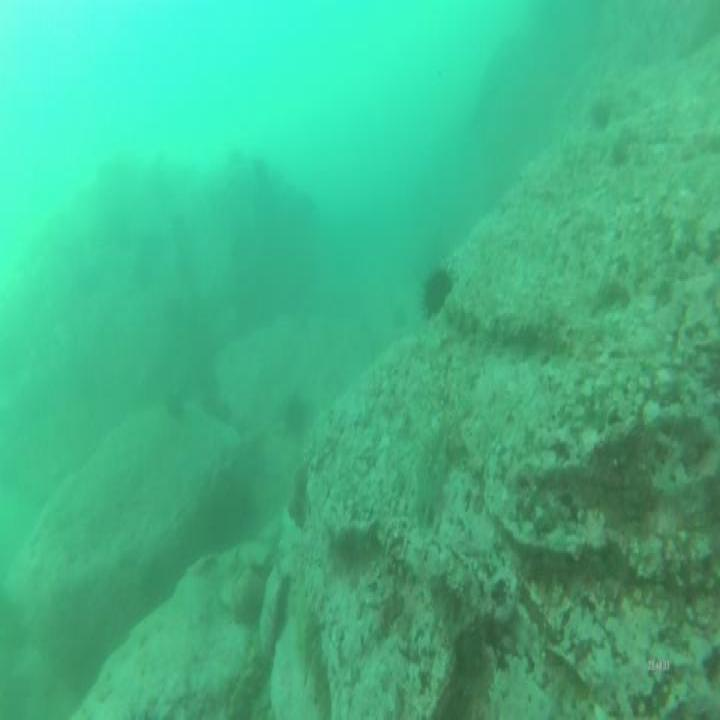echinus: (418, 265, 457, 320), (281, 390, 311, 437), (587, 98, 614, 133)
holothurian: (295, 595, 334, 720), (224, 643, 271, 720)
